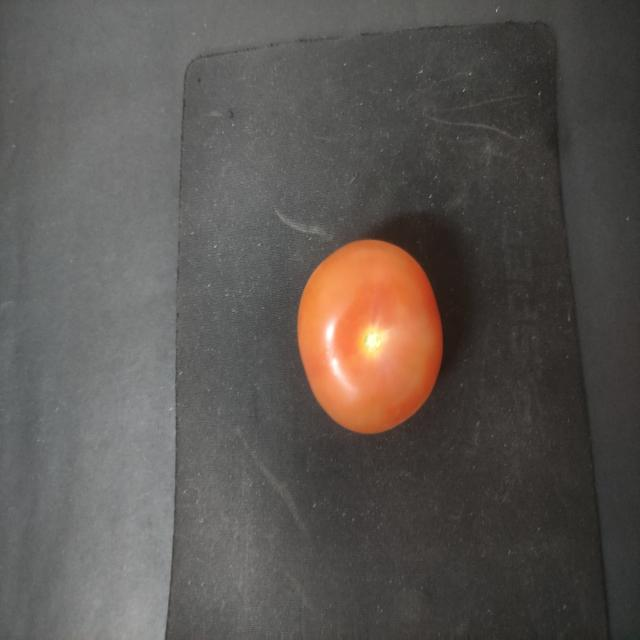sari: (283, 227, 452, 448)
